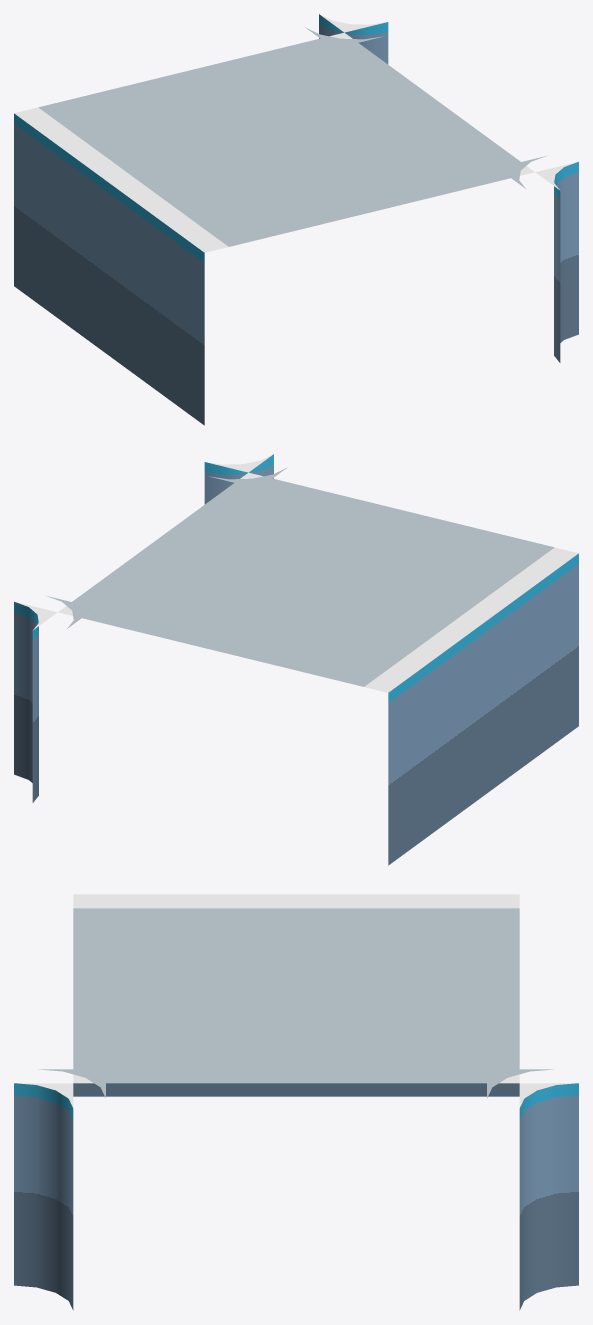
Rendered from TileFace1111Corner0110_Updated.fbx.
The picture shows the model from 3 angles, top to bottom: view 1: azimuth 30°, elevation 25°; view 2: azimuth 150°, elevation 25°; view 3: azimuth 270°, elevation 25°; orthographic projection. The views are drawn at different scales.
Parts seen in each view (by area): view 1: Face1111Corner0110v1_; view 2: Face1111Corner0110v1_; view 3: Face1111Corner0110v1_.
Part boxes in pixels (left/top/right/bottom): Face1111Corner0110v1_: left=14, top=14, right=578, bottom=425; Face1111Corner0110v1_: left=14, top=454, right=578, bottom=865; Face1111Corner0110v1_: left=14, top=894, right=578, bottom=1310.
Bounding box in the file's own units: 113 × 50.01 × 126.
